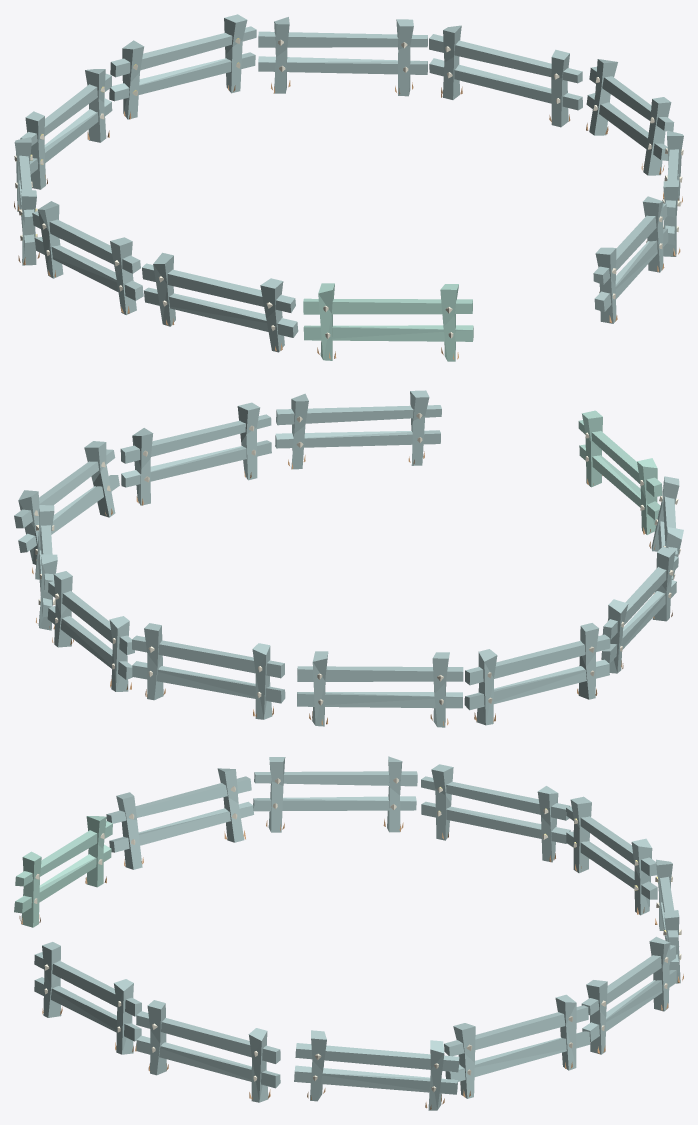
Rendered from fence-turquoise.gltf.
3 views of the same model, one above another, from view 1: azimuth 30°, elevation 25°; view 2: azimuth 150°, elevation 25°; view 3: azimuth 270°, elevation 25° (orthographic). The views are drawn at different scales.
Parts seen in each view (by area): view 1: Cube.071, Cube.065, Cube.064, Cube.067, Cube.066, Cube.062, Cube.068, Cube.072, Cube.070, Cube.063, Cube.069; view 2: Cube.072, Cube.066, Cube.063, Cube.070, Cube.069, Cube.065, Cube.068, Cube.071, Cube.062, Cube.067, Cube.064; view 3: Cube.068, Cube.069, Cube.062, Cube.067, Cube.063, Cube.064, Cube.070, Cube.071, Cube.065, Cube.072, Cube.066.
Part boxes in pixels (x1,y1,x2,y2): Cube.071: [303, 283, 473, 361]; Cube.065: [258, 17, 427, 96]; Cube.064: [142, 252, 298, 352]; Cube.067: [429, 25, 582, 127]; Cube.066: [109, 14, 256, 119]; Cube.062: [32, 201, 143, 314]; Cube.068: [586, 59, 674, 175]; Cube.072: [20, 69, 112, 189]; Cube.070: [593, 196, 668, 323]; Cube.063: [14, 137, 39, 265]; Cube.069: [662, 130, 683, 256]; Cube.072: [297, 651, 463, 727]; Cube.066: [132, 623, 285, 719]; Cube.063: [464, 623, 610, 725]; Cube.070: [275, 390, 441, 469]; Cube.069: [120, 402, 271, 505]; Cube.065: [47, 571, 134, 691]; Cube.068: [14, 441, 119, 564]; Cube.071: [578, 410, 662, 534]; Cube.062: [601, 546, 678, 673]; Cube.067: [32, 505, 57, 630]; Cube.064: [649, 476, 683, 593]; Cube.068: [294, 1030, 459, 1110]; Cube.069: [136, 1000, 280, 1102]; Cube.062: [253, 756, 417, 832]; Cube.067: [444, 994, 590, 1098]; Cube.063: [421, 764, 570, 862]; Cube.064: [106, 768, 253, 869]; Cube.070: [34, 942, 141, 1054]; Cube.071: [14, 816, 112, 927]; Cube.065: [581, 936, 676, 1054]; Cube.072: [566, 796, 657, 915]; Cube.066: [655, 859, 683, 983].
Size of the model in its own units: 11.46 by 1.65 by 11.56.
